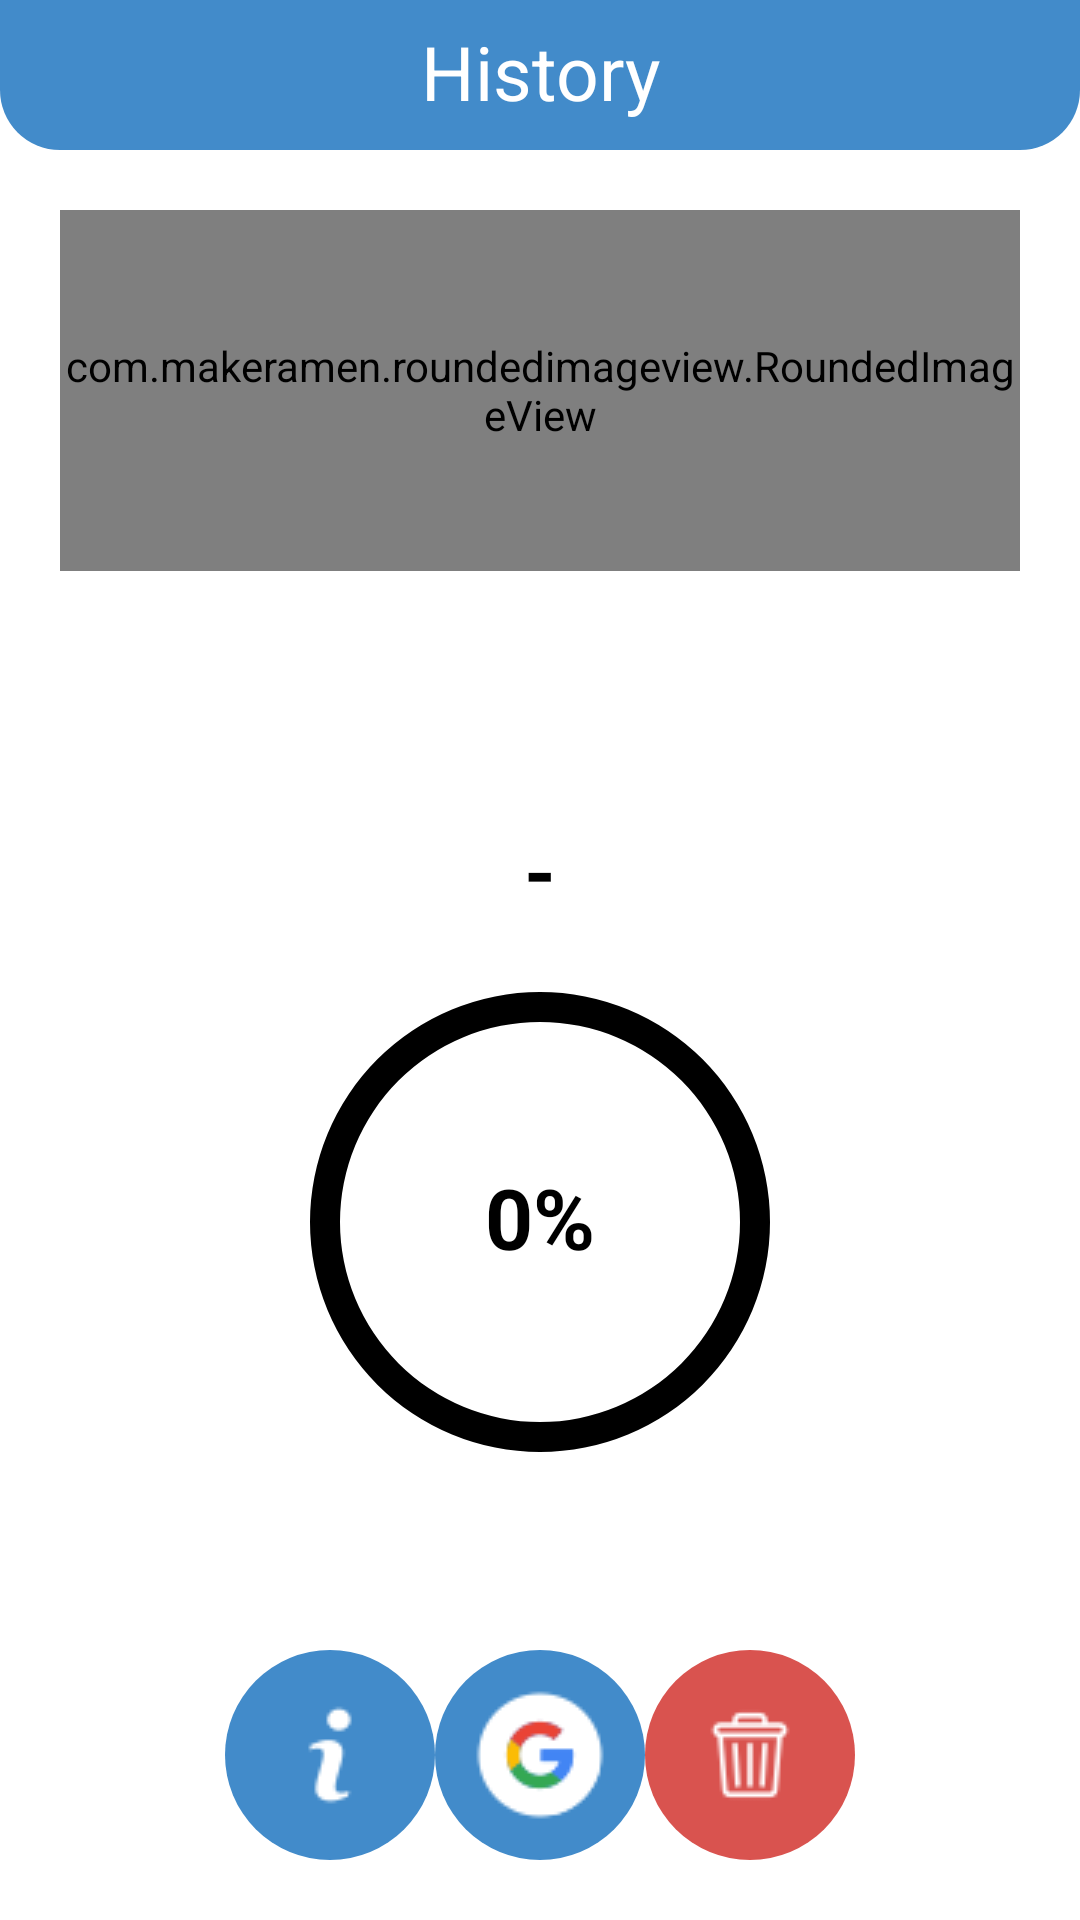

Named icons in this screenshot (1080px×1920px) and their bounding boxes, detection(x1, y1, x2, y2):
bin: detection(645, 1650, 855, 1860)
info: detection(225, 1650, 435, 1860)
